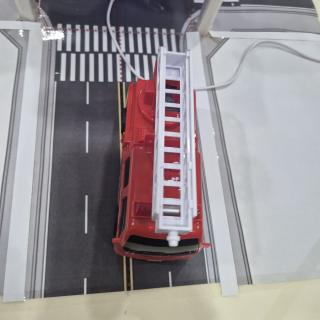Fire_truck: (112, 46, 210, 261)
